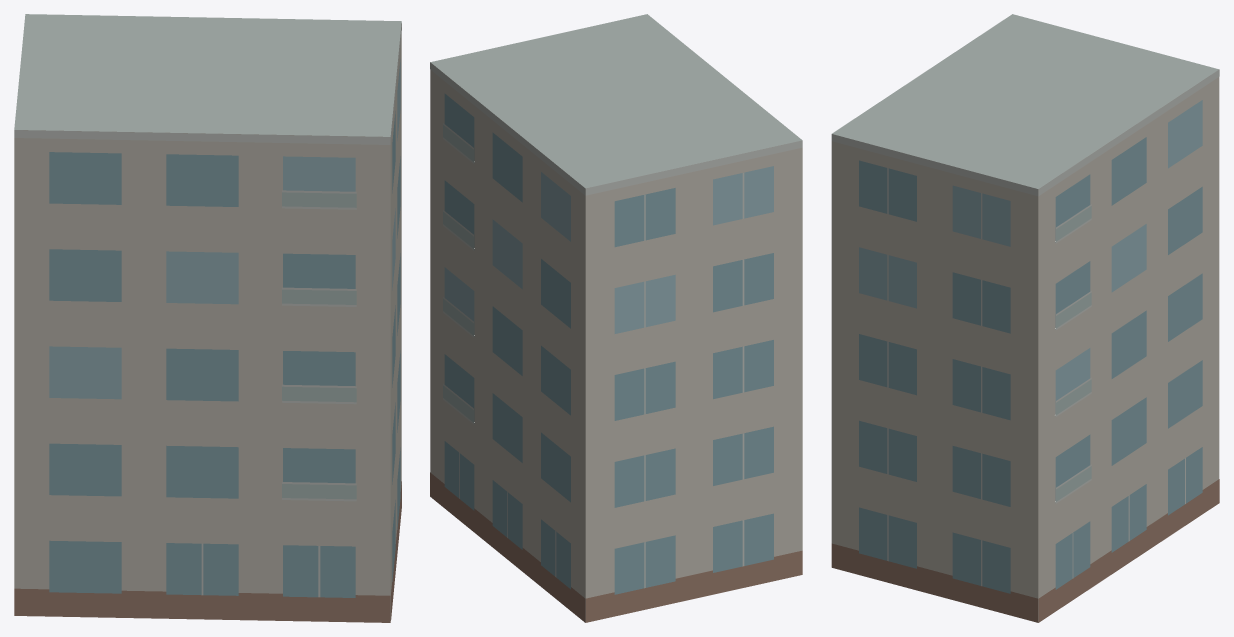
File: survey-upis-32926364.glb
The picture shows the model from 3 angles, left to right: view 1: azimuth 30°, elevation 25°; view 2: azimuth 150°, elevation 25°; view 3: azimuth 270°, elevation 25°; orthographic projection. The views are drawn at different scales.
Visible parts, largest first — view 1: survey-upis-32926364.tmp; view 2: survey-upis-32926364.tmp; view 3: survey-upis-32926364.tmp.
Boxes of the visible parts, <box> form: survey-upis-32926364.tmp: <box>14,14,401,622</box>; survey-upis-32926364.tmp: <box>430,14,802,622</box>; survey-upis-32926364.tmp: <box>831,14,1219,622</box>.
Size of the model in its own units: 12.65 by 14.6 by 11.84.
